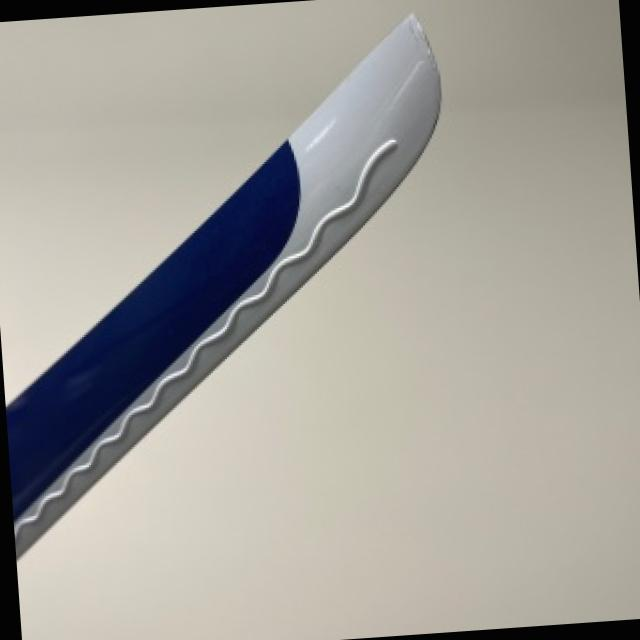healthy: (0, 34, 308, 398)
